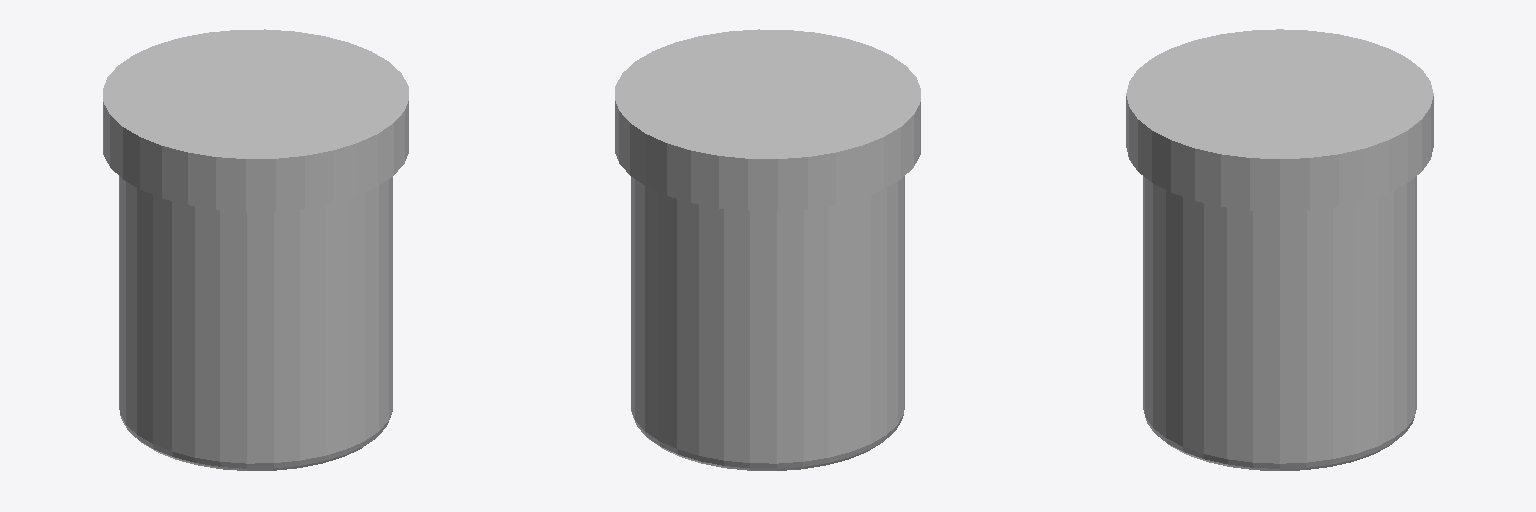
File: meds.obj
The picture shows the model from 3 angles: view 1: azimuth 30°, elevation 25°; view 2: azimuth 150°, elevation 25°; view 3: azimuth 270°, elevation 25°; orthographic projection.
Parts seen in each view (by area): view 1: meds; view 2: meds; view 3: meds.
Boxes of the visible parts, x1=… form: meds: x1=103, y1=29, x2=408, y2=470; meds: x1=615, y1=29, x2=920, y2=470; meds: x1=1126, y1=29, x2=1433, y2=470.
Bounding box in the file's own units: 0.4796 × 0.5564 × 0.4796.